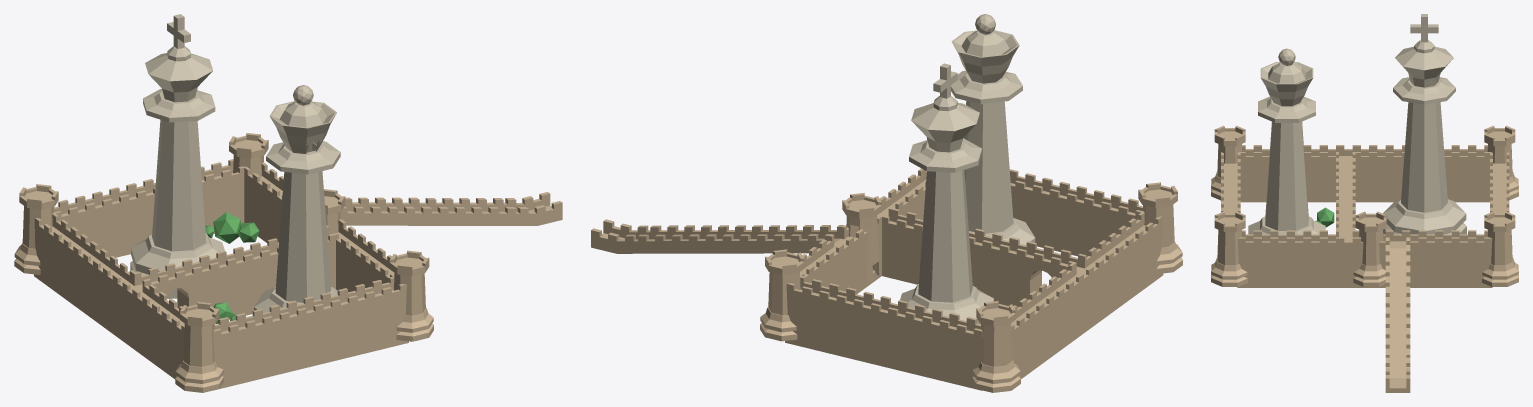
The model's file is castle.fbx.
The picture shows the model from 3 angles, left to right: view 1: azimuth 30°, elevation 25°; view 2: azimuth 150°, elevation 25°; view 3: azimuth 270°, elevation 25°; orthographic projection. The views are drawn at different scales.
Parts seen in each view (by area): view 1: wall, king, queen, chariot_3, chariot_4, chariot_2, chariot_1, grass1, chariot; view 2: wall, king, queen, chariot_2, chariot_1, chariot_3, chariot; view 3: wall, king, queen, chariot_4, chariot_1, chariot, chariot_3, chariot_2.
Part boxes in pixels (<box>): wall: <box>34,159,562,390</box>; king: <box>130,14,224,298</box>; queen: <box>254,85,340,312</box>; chariot_3: <box>175,301,223,392</box>; chariot_4: <box>389,250,433,341</box>; chariot_2: <box>14,184,58,274</box>; chariot_1: <box>229,133,268,176</box>; grass1: <box>205,212,259,243</box>; chariot: <box>324,189,345,234</box>; wall: <box>591,168,1163,390</box>; king: <box>900,63,993,324</box>; queen: <box>951,14,1035,245</box>; chariot_2: <box>972,301,1020,392</box>; chariot_1: <box>760,249,804,341</box>; chariot_3: <box>1138,182,1182,273</box>; chariot: <box>842,193,881,280</box>; wall: <box>1221,145,1509,392</box>; king: <box>1383,14,1466,234</box>; queen: <box>1248,48,1325,234</box>; chariot_4: <box>1211,211,1247,286</box>; chariot_1: <box>1482,211,1518,286</box>; chariot: <box>1353,211,1386,286</box>; chariot_3: <box>1211,125,1245,200</box>; chariot_2: <box>1484,125,1518,200</box>.
Size of the model in its own units: 7816 by 4315 by 5233.
